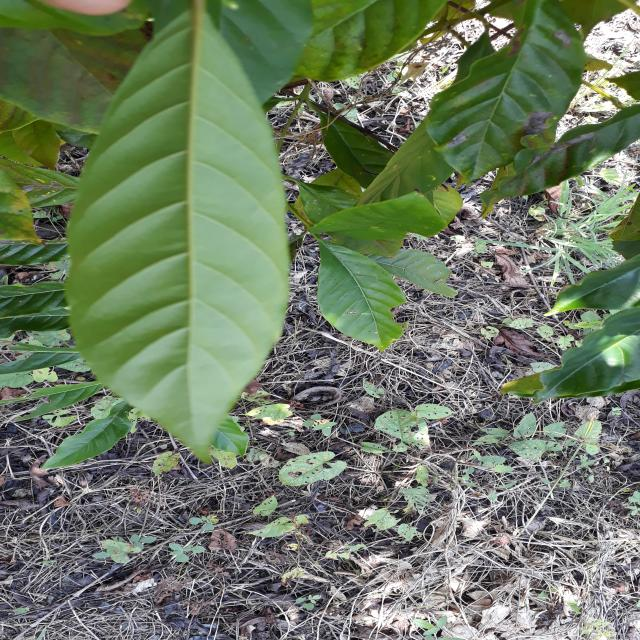Sanas: (64, 0, 292, 466)
